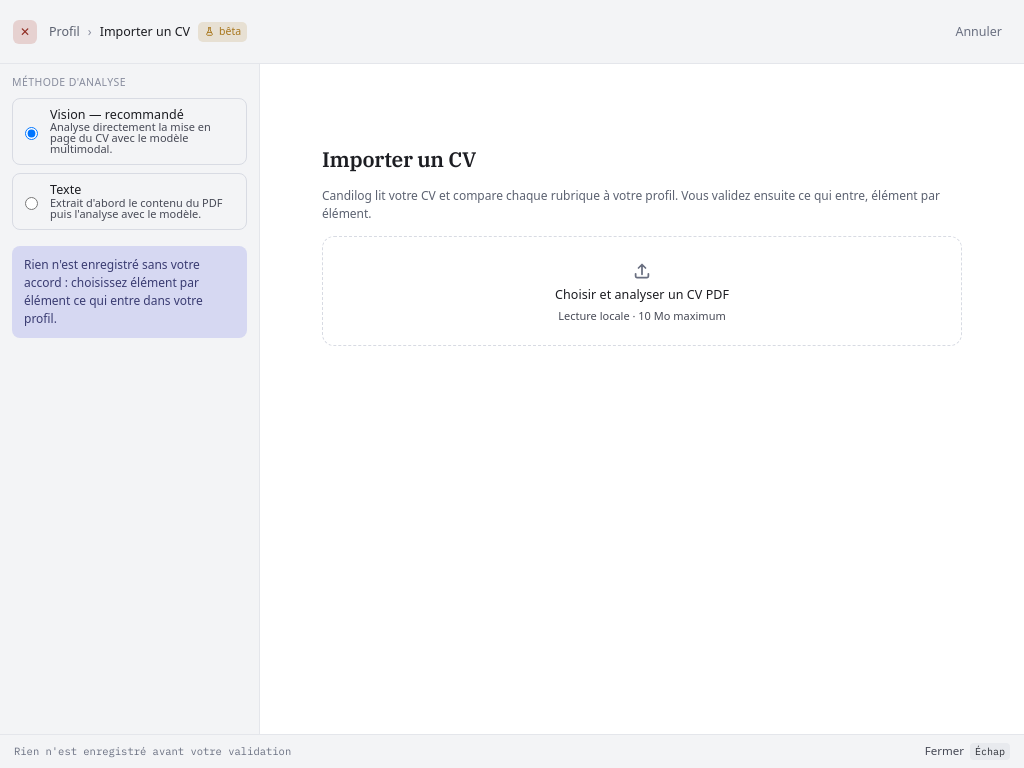
ProfileImportModal › conserve le défilement interne de la revue malgré les bandeaux méthode
Click the button "Choisir et analyser un CV PDF Lecture locale · 10 Mo maximum" at point(642, 291), box [322, 236, 962, 346]
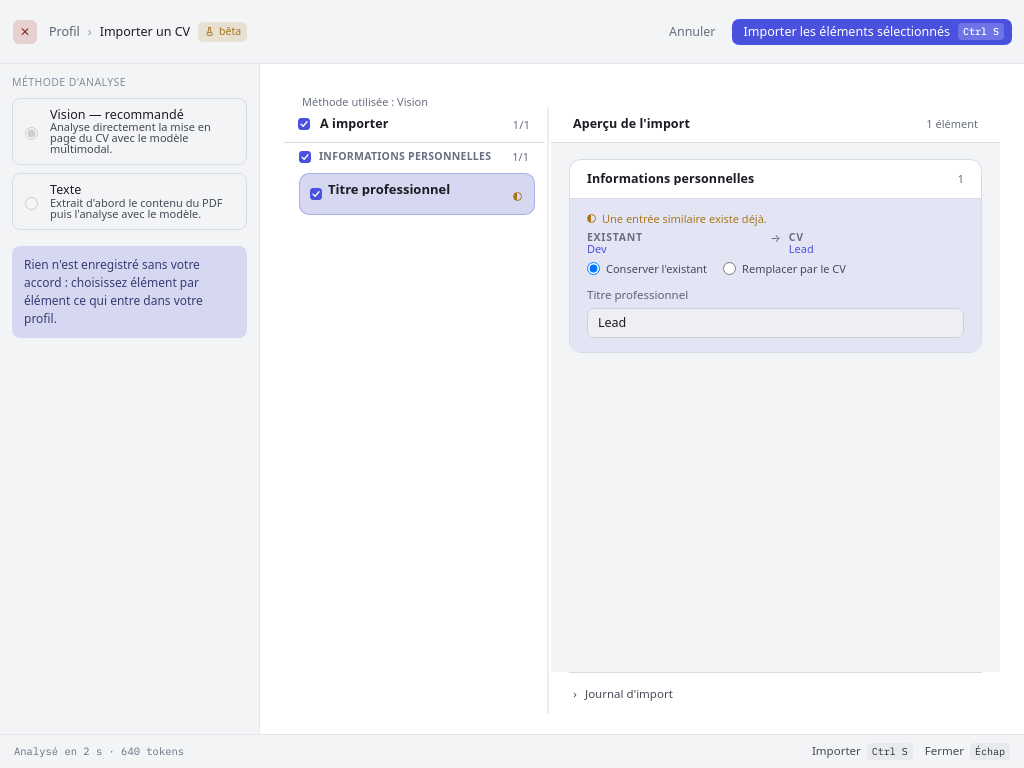
Expected: the text "Méthode utilisée : Vision" is shown, [302, 94, 428, 109]
Expected: the form is shown, [284, 107, 1000, 714]
